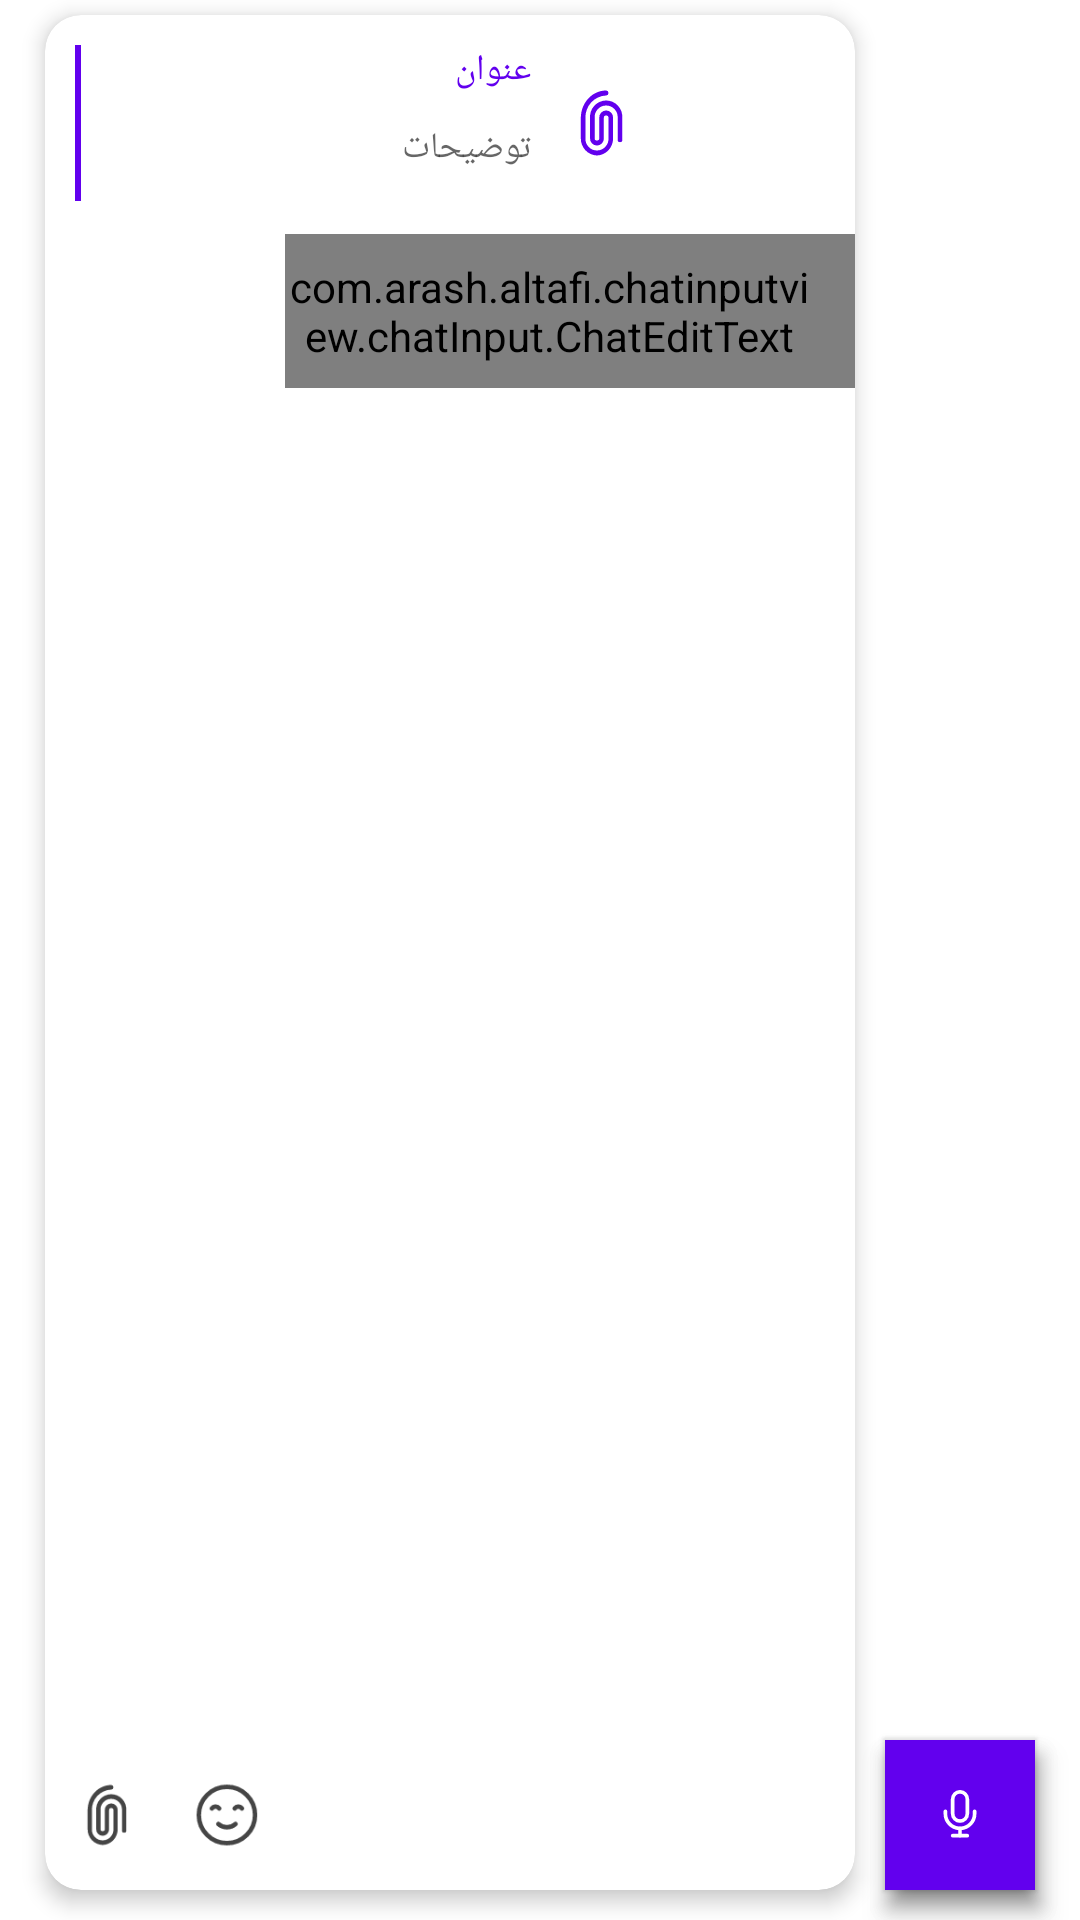

Icons on this 1080x1920 Android screen, each with its box as (x1, y1, x2, y2):
attachment: (87, 1784, 127, 1846)
emoji: (196, 1784, 258, 1846)
